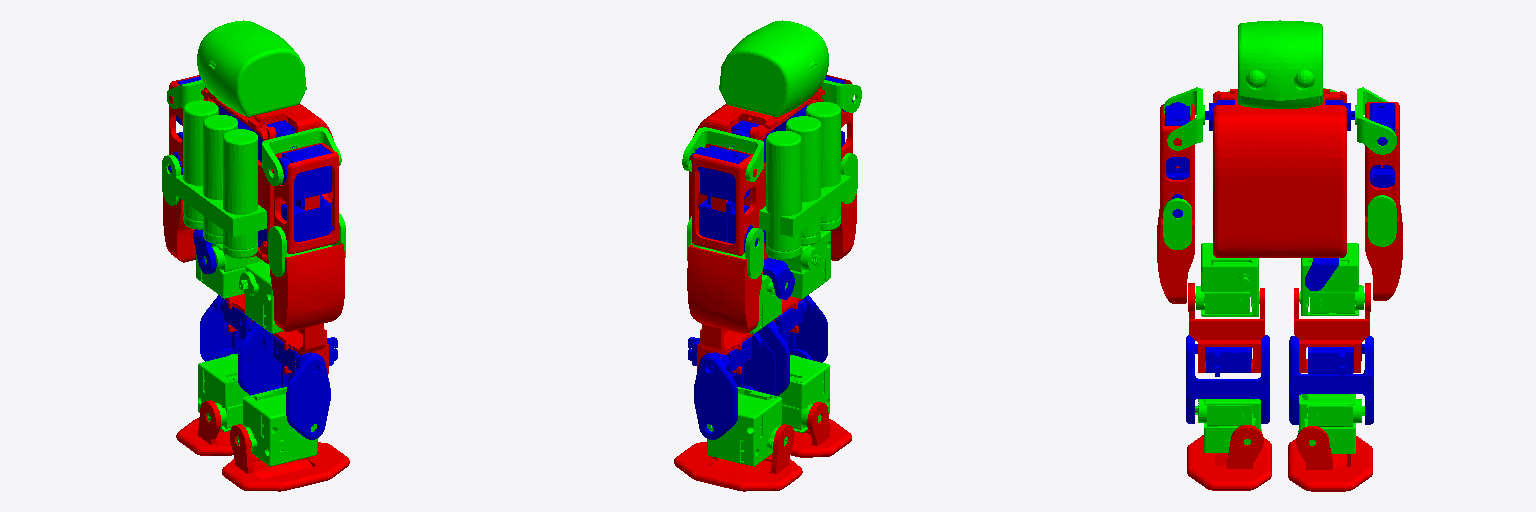
--- Render facts (derived) ---
The picture shows the robot from 3 angles, left to right: view 1: azimuth 30°, elevation 25°; view 2: azimuth 150°, elevation 25°; view 3: azimuth 270°, elevation 25°; orthographic projection.
Robot: plen — 33 links, 32 joints (18 revolute, 14 fixed); root link torso; default pose: every joint at zero.
Links seen in each view (by area): view 1: battery, head, r_hand, r_shin, r_foot, r_ankle, r_arm, torso, l_shin, l_ankle, l_foot, r_thigh (+13 smaller); view 2: battery, head, l_hand, l_shin, l_foot, l_ankle, l_arm, r_shin, r_ankle, torso, r_foot, r_thigh (+12 smaller); view 3: torso, head, r_foot, l_foot, r_thigh, l_shin, l_thigh, r_shin, l_ankle, r_knee, l_knee, r_ankle (+13 smaller).
Boxes of the visible links, x1=… form: battery: x1=175, y1=100, x2=266, y2=258; head: x1=197, y1=20, x2=306, y2=116; r_hand: x1=270, y1=243, x2=344, y2=331; r_shin: x1=249, y1=332, x2=330, y2=439; r_foot: x1=222, y1=424, x2=349, y2=491; r_ankle: x1=237, y1=387, x2=317, y2=466; r_arm: x1=274, y1=143, x2=338, y2=253; torso: x1=201, y1=86, x2=333, y2=263; l_shin: x1=200, y1=295, x2=267, y2=395; l_ankle: x1=198, y1=354, x2=249, y2=431; l_foot: x1=176, y1=400, x2=233, y2=455; r_thigh: x1=239, y1=261, x2=283, y2=333; battery: x1=759, y1=102, x2=851, y2=259; head: x1=719, y1=20, x2=828, y2=116; l_hand: x1=687, y1=245, x2=762, y2=333; l_shin: x1=694, y1=332, x2=775, y2=439; l_foot: x1=674, y1=424, x2=802, y2=491; l_ankle: x1=707, y1=387, x2=787, y2=466; l_arm: x1=692, y1=144, x2=756, y2=255; r_shin: x1=757, y1=295, x2=827, y2=395; r_ankle: x1=778, y1=355, x2=829, y2=432; torso: x1=689, y1=86, x2=824, y2=259; r_foot: x1=791, y1=402, x2=851, y2=457; r_thigh: x1=768, y1=231, x2=830, y2=298; torso: x1=1213, y1=89, x2=1346, y2=257; head: x1=1238, y1=20, x2=1322, y2=108; r_foot: x1=1187, y1=425, x2=1271, y2=490; l_foot: x1=1288, y1=426, x2=1372, y2=491; r_thigh: x1=1195, y1=243, x2=1259, y2=316; l_shin: x1=1289, y1=336, x2=1373, y2=424; l_thigh: x1=1299, y1=243, x2=1364, y2=315; r_shin: x1=1186, y1=335, x2=1269, y2=423; l_ankle: x1=1298, y1=394, x2=1364, y2=453; r_knee: x1=1188, y1=283, x2=1264, y2=372; l_knee: x1=1294, y1=283, x2=1370, y2=372; r_ankle: x1=1195, y1=399, x2=1261, y2=452.
Bounding box of the posed robot: 0.0672 × 0.1222 × 0.236 m (x, y, z).
32 mesh visuals loaded from 17 distinct referenced files (16 binary STL); not drawn: 1 (reference not matched to a file when rendering).

The robot description file, URDF, robot "plen":
<?xml version="1.0" encoding="utf-8"?>
<!-- =================================================================================== -->
<!-- |    This document was autogenerated by xacro from plen.urdf.xacro                | -->
<!-- |    EDITING THIS FILE BY HAND IS NOT RECOMMENDED                                 | -->
<!-- =================================================================================== -->
<robot name="plen">
  <!-- ros_control plugin -->
  <gazebo>
    <plugin filename="libgazebo_ros_control.so" name="gazebo_ros_control">
      <robotNamespace>/plen</robotNamespace>
      <robotSimType>gazebo_ros_control/DefaultRobotHWSim</robotSimType>
    </plugin>
  </gazebo>
  <gazebo reference="torso">
    <material>Gazebo/Gray</material>
    <mu1>100</mu1>
    <!-- static -->
    <mu2>100</mu2>
    <!-- dynamic -->
    <dampingFactor>0.001</dampingFactor>
    <kp>10000000.0</kp>
    <!-- rigidity (damping) -->
    <kd>1.0</kd>
    <!-- rigidity (damping) -->
    <minDepth>0.001</minDepth>
    <fdir1>1 0 0</fdir1>
    <!-- friction direction -->
  </gazebo>
  <gazebo reference="battery">
    <material>Gazebo/Orange</material>
    <mu1>100</mu1>
    <!-- static -->
    <mu2>100</mu2>
    <!-- dynamic -->
    <dampingFactor>0.001</dampingFactor>
    <kp>10000000.0</kp>
    <!-- rigidity (damping) -->
    <kd>1.0</kd>
    <!-- rigidity (damping) -->
    <minDepth>0.001</minDepth>
    <fdir1>1 0 0</fdir1>
    <!-- friction direction -->
  </gazebo>
  <gazebo reference="head">
    <material>Gazebo/Gray</material>
    <mu1>100</mu1>
    <!-- static -->
    <mu2>100</mu2>
    <!-- dynamic -->
    <dampingFactor>0.001</dampingFactor>
    <kp>10000000.0</kp>
    <!-- rigidity (damping) -->
    <kd>1.0</kd>
    <!-- rigidity (damping) -->
    <minDepth>0.001</minDepth>
    <fdir1>1 0 0</fdir1>
    <!-- friction direction -->
  </gazebo>
  <gazebo reference="rt_servo">
    <material>Gazebo/Orange</material>
    <mu1>100</mu1>
    <!-- static -->
    <mu2>100</mu2>
    <!-- dynamic -->
    <dampingFactor>0.001</dampingFactor>
    <kp>10000000.0</kp>
    <!-- rigidity (damping) -->
    <kd>1.0</kd>
    <!-- rigidity (damping) -->
    <minDepth>0.001</minDepth>
    <fdir1>1 0 0</fdir1>
    <!-- friction direction -->
  </gazebo>
  <gazebo reference="lt_servo">
    <material>Gazebo/Orange</material>
    <mu1>100</mu1>
    <!-- static -->
    <mu2>100</mu2>
    <!-- dynamic -->
    <dampingFactor>0.001</dampingFactor>
    <kp>10000000.0</kp>
    <!-- rigidity (damping) -->
    <kd>1.0</kd>
    <!-- rigidity (damping) -->
    <minDepth>0.001</minDepth>
    <fdir1>1 0 0</fdir1>
    <!-- friction direction -->
  </gazebo>
  <gazebo reference="rb_servo">
    <material>Gazebo/Orange</material>
    <mu1>100</mu1>
    <!-- static -->
    <mu2>100</mu2>
    <!-- dynamic -->
    <dampingFactor>0.001</dampingFactor>
    <kp>10000000.0</kp>
    <!-- rigidity (damping) -->
    <kd>1.0</kd>
    <!-- rigidity (damping) -->
    <minDepth>0.001</minDepth>
    <fdir1>1 0 0</fdir1>
    <!-- friction direction -->
  </gazebo>
  <gazebo reference="lb_servo">
    <material>Gazebo/Orange</material>
    <mu1>100</mu1>
    <!-- static -->
    <mu2>100</mu2>
    <!-- dynamic -->
    <dampingFactor>0.001</dampingFactor>
    <kp>10000000.0</kp>
    <!-- rigidity (damping) -->
    <kd>1.0</kd>
    <!-- rigidity (damping) -->
    <minDepth>0.001</minDepth>
    <fdir1>1 0 0</fdir1>
    <!-- friction direction -->
  </gazebo>
  <gazebo reference="r_shoulder">
    <material>Gazebo/Gray</material>
    <mu1>100</mu1>
    <!-- static -->
    <mu2>100</mu2>
    <!-- dynamic -->
    <dampingFactor>0.001</dampingFactor>
    <kp>10000000.0</kp>
    <!-- rigidity (damping) -->
    <kd>1.0</kd>
    <!-- rigidity (damping) -->
    <minDepth>0.001</minDepth>
    <fdir1>1 0 0</fdir1>
    <!-- friction direction -->
  </gazebo>
  <gazebo reference="rs_servo">
    <material>Gazebo/Orange</material>
    <mu1>100</mu1>
    <!-- static -->
    <mu2>100</mu2>
    <!-- dynamic -->
    <dampingFactor>0.001</dampingFactor>
    <kp>10000000.0</kp>
    <!-- rigidity (damping) -->
    <kd>1.0</kd>
    <!-- rigidity (damping) -->
    <minDepth>0.001</minDepth>
    <fdir1>1 0 0</fdir1>
    <!-- friction direction -->
  </gazebo>
  <gazebo reference="r_arm">
    <material>Gazebo/Gray</material>
    <mu1>100</mu1>
    <!-- static -->
    <mu2>100</mu2>
    <!-- dynamic -->
    <dampingFactor>0.001</dampingFactor>
    <kp>10000000.0</kp>
    <!-- rigidity (damping) -->
    <kd>1.0</kd>
    <!-- rigidity (damping) -->
    <minDepth>0.001</minDepth>
    <fdir1>1 0 0</fdir1>
    <!-- friction direction -->
  </gazebo>
  <gazebo reference="re_servo">
    <material>Gazebo/Orange</material>
    <mu1>100</mu1>
    <!-- static -->
    <mu2>100</mu2>
    <!-- dynamic -->
    <dampingFactor>0.001</dampingFactor>
    <kp>10000000.0</kp>
    <!-- rigidity (damping) -->
    <kd>1.0</kd>
    <!-- rigidity (damping) -->
    <minDepth>0.001</minDepth>
    <fdir1>1 0 0</fdir1>
    <!-- friction direction -->
  </gazebo>
  <gazebo reference="r_elbow">
    <material>Gazebo/Gray</material>
    <mu1>100</mu1>
    <!-- static -->
    <mu2>100</mu2>
    <!-- dynamic -->
    <dampingFactor>0.001</dampingFactor>
    <kp>10000000.0</kp>
    <!-- rigidity (damping) -->
    <kd>1.0</kd>
    <!-- rigidity (damping) -->
    <minDepth>0.001</minDepth>
    <fdir1>1 0 0</fdir1>
    <!-- friction direction -->
  </gazebo>
  <gazebo reference="r_hand">
    <material>Gazebo/Gray</material>
    <mu1>100</mu1>
    <!-- static -->
    <mu2>100</mu2>
    <!-- dynamic -->
    <dampingFactor>0.001</dampingFactor>
    <kp>10000000.0</kp>
    <!-- rigidity (damping) -->
    <kd>1.0</kd>
    <!-- rigidity (damping) -->
    <minDepth>0.001</minDepth>
    <fdir1>1 0 0</fdir1>
    <!-- friction direction -->
  </gazebo>
  <gazebo reference="l_shoulder">
    <material>Gazebo/Gray</material>
    <mu1>100</mu1>
    <!-- static -->
    <mu2>100</mu2>
    <!-- dynamic -->
    <dampingFactor>0.001</dampingFactor>
    <kp>10000000.0</kp>
    <!-- rigidity (damping) -->
    <kd>1.0</kd>
    <!-- rigidity (damping) -->
    <minDepth>0.001</minDepth>
    <fdir1>1 0 0</fdir1>
    <!-- friction direction -->
  </gazebo>
  <gazebo reference="ls_servo">
    <material>Gazebo/Orange</material>
    <mu1>100</mu1>
    <!-- static -->
    <mu2>100</mu2>
    <!-- dynamic -->
    <dampingFactor>0.001</dampingFactor>
    <kp>10000000.0</kp>
    <!-- rigidity (damping) -->
    <kd>1.0</kd>
    <!-- rigidity (damping) -->
    <minDepth>0.001</minDepth>
    <fdir1>1 0 0</fdir1>
    <!-- friction direction -->
  </gazebo>
  <gazebo reference="l_arm">
    <material>Gazebo/Gray</material>
    <mu1>100</mu1>
    <!-- static -->
    <mu2>100</mu2>
    <!-- dynamic -->
    <dampingFactor>0.001</dampingFactor>
    <kp>10000000.0</kp>
    <!-- rigidity (damping) -->
    <kd>1.0</kd>
    <!-- rigidity (damping) -->
    <minDepth>0.001</minDepth>
    <fdir1>1 0 0</fdir1>
    <!-- friction direction -->
  </gazebo>
  <gazebo reference="le_servo">
    <material>Gazebo/Orange</material>
    <mu1>100</mu1>
    <!-- static -->
    <mu2>100</mu2>
    <!-- dynamic -->
    <dampingFactor>0.001</dampingFactor>
    <kp>10000000.0</kp>
    <!-- rigidity (damping) -->
    <kd>1.0</kd>
    <!-- rigidity (damping) -->
    <minDepth>0.001</minDepth>
    <fdir1>1 0 0</fdir1>
    <!-- friction direction -->
  </gazebo>
  <gazebo reference="l_elbow">
    <material>Gazebo/Gray</material>
    <mu1>100</mu1>
    <!-- static -->
    <mu2>100</mu2>
    <!-- dynamic -->
    <dampingFactor>0.001</dampingFactor>
    <kp>10000000.0</kp>
    <!-- rigidity (damping) -->
    <kd>1.0</kd>
    <!-- rigidity (damping) -->
    <minDepth>0.001</minDepth>
    <fdir1>1 0 0</fdir1>
    <!-- friction direction -->
  </gazebo>
  <gazebo reference="l_hand">
    <material>Gazebo/Gray</material>
    <mu1>100</mu1>
    <!-- static -->
    <mu2>100</mu2>
    <!-- dynamic -->
    <dampingFactor>0.001</dampingFactor>
    <kp>10000000.0</kp>
    <!-- rigidity (damping) -->
    <kd>1.0</kd>
    <!-- rigidity (damping) -->
    <minDepth>0.001</minDepth>
    <fdir1>1 0 0</fdir1>
    <!-- friction direction -->
  </gazebo>
  <gazebo reference="r_hip">
    <material>Gazebo/Gray</material>
    <mu1>100</mu1>
    <!-- static -->
    <mu2>100</mu2>
    <!-- dynamic -->
    <dampingFactor>0.001</dampingFactor>
    <kp>10000000.0</kp>
    <!-- rigidity (damping) -->
    <kd>1.0</kd>
    <!-- rigidity (damping) -->
    <minDepth>0.001</minDepth>
    <fdir1>1 0 0</fdir1>
    <!-- friction direction -->
  </gazebo>
  <gazebo reference="r_thigh">
    <material>Gazebo/Orange</material>
    <mu1>100</mu1>
    <!-- static -->
    <mu2>100</mu2>
    <!-- dynamic -->
    <dampingFactor>0.001</dampingFactor>
    <kp>10000000.0</kp>
    <!-- rigidity (damping) -->
    <kd>1.0</kd>
    <!-- rigidity (damping) -->
    <minDepth>0.001</minDepth>
    <fdir1>1 0 0</fdir1>
    <!-- friction direction -->
  </gazebo>
  <gazebo reference="r_knee">
    <material>Gazebo/Gray</material>
    <mu1>100</mu1>
    <!-- static -->
    <mu2>100</mu2>
    <!-- dynamic -->
    <dampingFactor>0.001</dampingFactor>
    <kp>10000000.0</kp>
    <!-- rigidity (damping) -->
    <kd>1.0</kd>
    <!-- rigidity (damping) -->
    <minDepth>0.001</minDepth>
    <fdir1>1 0 0</fdir1>
    <!-- friction direction -->
  </gazebo>
  <gazebo reference="r_knee_servo">
    <material>Gazebo/Orange</material>
    <mu1>100</mu1>
    <!-- static -->
    <mu2>100</mu2>
    <!-- dynamic -->
    <dampingFactor>0.001</dampingFactor>
    <kp>10000000.0</kp>
    <!-- rigidity (damping) -->
    <kd>1.0</kd>
    <!-- rigidity (damping) -->
    <minDepth>0.001</minDepth>
    <fdir1>1 0 0</fdir1>
    <!-- friction direction -->
  </gazebo>
  <gazebo reference="r_shin">
    <material>Gazebo/Gray</material>
    <mu1>100</mu1>
    <!-- static -->
    <mu2>100</mu2>
    <!-- dynamic -->
    <dampingFactor>0.001</dampingFactor>
    <kp>10000000.0</kp>
    <!-- rigidity (damping) -->
    <kd>1.0</kd>
    <!-- rigidity (damping) -->
    <minDepth>0.001</minDepth>
    <fdir1>1 0 0</fdir1>
    <!-- friction direction -->
  </gazebo>
  <gazebo reference="r_ankle">
    <material>Gazebo/Orange</material>
    <mu1>100</mu1>
    <!-- static -->
    <mu2>100</mu2>
    <!-- dynamic -->
    <dampingFactor>0.001</dampingFactor>
    <kp>10000000.0</kp>
    <!-- rigidity (damping) -->
    <kd>1.0</kd>
    <!-- rigidity (damping) -->
    <minDepth>0.001</minDepth>
    <fdir1>1 0 0</fdir1>
    <!-- friction direction -->
  </gazebo>
  <gazebo reference="r_foot">
    <material>Gazebo/Gray</material>
    <mu1>100</mu1>
    <!-- static -->
    <mu2>100</mu2>
    <!-- dynamic -->
    <dampingFactor>0.001</dampingFactor>
    <kp>10000000.0</kp>
    <!-- rigidity (damping) -->
    <kd>1.0</kd>
    <!-- rigidity (damping) -->
    <minDepth>0.001</minDepth>
    <fdir1>1 0 0</fdir1>
    <!-- friction direction -->
  </gazebo>
  <gazebo reference="l_hip">
    <material>Gazebo/Gray</material>
    <mu1>100</mu1>
    <!-- static -->
    <mu2>100</mu2>
    <!-- dynamic -->
    <dampingFactor>0.001</dampingFactor>
    <kp>10000000.0</kp>
    <!-- rigidity (damping) -->
    <kd>1.0</kd>
    <!-- rigidity (damping) -->
    <minDepth>0.001</minDepth>
    <fdir1>1 0 0</fdir1>
    <!-- friction direction -->
  </gazebo>
  <gazebo reference="l_thigh">
    <material>Gazebo/Orange</material>
    <mu1>100</mu1>
    <!-- static -->
    <mu2>100</mu2>
    <!-- dynamic -->
    <dampingFactor>0.001</dampingFactor>
    <kp>10000000.0</kp>
    <!-- rigidity (damping) -->
    <kd>1.0</kd>
    <!-- rigidity (damping) -->
    <minDepth>0.001</minDepth>
    <fdir1>1 0 0</fdir1>
    <!-- friction direction -->
  </gazebo>
  <gazebo reference="l_knee">
    <material>Gazebo/Gray</material>
    <mu1>100</mu1>
    <!-- static -->
    <mu2>100</mu2>
    <!-- dynamic -->
    <dampingFactor>0.001</dampingFactor>
    <kp>10000000.0</kp>
    <!-- rigidity (damping) -->
    <kd>1.0</kd>
    <!-- rigidity (damping) -->
    <minDepth>0.001</minDepth>
    <fdir1>1 0 0</fdir1>
    <!-- friction direction -->
  </gazebo>
  <gazebo reference="l_knee_servo">
    <material>Gazebo/Orange</material>
    <mu1>100</mu1>
    <!-- static -->
    <mu2>100</mu2>
    <!-- dynamic -->
    <dampingFactor>0.001</dampingFactor>
    <kp>10000000.0</kp>
    <!-- rigidity (damping) -->
    <kd>1.0</kd>
    <!-- rigidity (damping) -->
    <minDepth>0.001</minDepth>
    <fdir1>1 0 0</fdir1>
    <!-- friction direction -->
  </gazebo>
  <gazebo reference="l_shin">
    <material>Gazebo/Gray</material>
    <mu1>100</mu1>
    <!-- static -->
    <mu2>100</mu2>
    <!-- dynamic -->
    <dampingFactor>0.001</dampingFactor>
    <kp>10000000.0</kp>
    <!-- rigidity (damping) -->
    <kd>1.0</kd>
    <!-- rigidity (damping) -->
    <minDepth>0.001</minDepth>
    <fdir1>1 0 0</fdir1>
    <!-- friction direction -->
  </gazebo>
  <gazebo reference="l_ankle">
    <material>Gazebo/Orange</material>
    <mu1>100</mu1>
    <!-- static -->
    <mu2>100</mu2>
    <!-- dynamic -->
    <dampingFactor>0.001</dampingFactor>
    <kp>10000000.0</kp>
    <!-- rigidity (damping) -->
    <kd>1.0</kd>
    <!-- rigidity (damping) -->
    <minDepth>0.001</minDepth>
    <fdir1>1 0 0</fdir1>
    <!-- friction direction -->
  </gazebo>
  <gazebo reference="l_foot">
    <material>Gazebo/Gray</material>
    <mu1>100</mu1>
    <!-- static -->
    <mu2>100</mu2>
    <!-- dynamic -->
    <dampingFactor>0.001</dampingFactor>
    <kp>10000000.0</kp>
    <!-- rigidity (damping) -->
    <kd>1.0</kd>
    <!-- rigidity (damping) -->
    <minDepth>0.001</minDepth>
    <fdir1>1 0 0</fdir1>
    <!-- friction direction -->
  </gazebo>
  <!-- Robot description -->
  <!-- Links -->
  <link name="torso">
    <visual>
      <origin rpy="0 0 0" xyz="0 0 0"/>
      <geometry>
        <mesh filename="package://plen_ros/meshes_bin/torso.stl" scale="0.001 0.001 0.001"/>
      </geometry>
      <material name="red_mat">
        <color rgba="1 0 0 1"/>
      </material>
    </visual>
    <collision>
      <origin rpy="0 0 0" xyz="0.0 0 0.0"/>
      <geometry>
        <box size="0.045 0.048 0.075"/>
      </geometry>
    </collision>
    <inertial>
      <mass value="0.043968"/>
      <origin rpy="0 0 0" xyz="0.0 0 0.0"/>
      <!-- Inertial Axes -->
      <inertia ixx="2.80296e-05" ixy="0" ixz="0" iyx="0" iyy="2.80296e-05" iyz="0" izx="0" izy="0" izz="1.5861456e-05"/>
    </inertial>
  </link>
  <!-- m to mm -->
  <link name="battery">
    <visual>
      <origin rpy="0 0 0" xyz="0 0 0"/>
      <geometry>
        <mesh filename="package://plen_ros/meshes_bin/battery.stl" scale="0.001 0.001 0.001"/>
      </geometry>
      <material name="green_mat">
        <color rgba="0 1 0 1"/>
      </material>
    </visual>
    <collision>
      <origin rpy="0 0 0" xyz="0.0075 0 0.0115"/>
      <geometry>
        <box size="0.011 0.051 0.046"/>
      </geometry>
    </collision>
    <inertial>
      <mass value="0.064"/>
      <origin rpy="0 0 0" xyz="0.0075 0 0.0115"/>
      <!-- Inertial Axes -->
      <inertia ixx="1.19306666667e-05" ixy="0" ixz="0" iyx="0" iyy="1.19306666667e-05" iyz="0" izx="0" izy="0" izz="1.45173333333e-05"/>
    </inertial>
  </link>
  <link name="head">
    <visual>
      <origin rpy="0 0 0" xyz="0 0 0"/>
      <geometry>
        <mesh filename="package://plen_ros/meshes_bin/head.stl" scale="0.001 0.001 0.001"/>
      </geometry>
      <material name="green_mat">
        <color rgba="0 1 0 1"/>
      </material>
    </visual>
    <collision>
      <origin rpy="0 0 0" xyz="0 0 0.0"/>
      <geometry>
        <box size="0.04 0.04 0.04"/>
      </geometry>
    </collision>
    <inertial>
      <mass value="0.01"/>
      <origin rpy="0 0 0" xyz="0.0 0 0.0"/>
      <!-- Inertial Axes -->
      <inertia ixx="2.66666666667e-06" ixy="0" ixz="0" iyx="0" iyy="2.66666666667e-06" iyz="0" izx="0" izy="0" izz="2.66666666667e-06"/>
    </inertial>
  </link>
  <link name="rt_servo">
    <visual>
      <origin rpy="0 0 3.14159265359" xyz="0 0 0"/>
      <geometry>
        <mesh filename="package://plen_ros/meshes_bin/servo.stl" scale="0.001 0.001 0.001"/>
      </geometry>
      <material name="blue_mat">
        <color rgba="0 0 1 1"/>
      </material>
    </visual>
    <collision>
      <origin rpy="0 0 3.14159265359" xyz="0 0.00625 0.0"/>
      <geometry>
        <box size="0.012 0.025 0.025"/>
      </geometry>
    </collision>
    <inertial>
      <mass value="0.012"/>
      <origin rpy="0 0 0" xyz="0 0.00625 0.0"/>
      <!-- Inertial Axes -->
      <inertia ixx="7.69e-07" ixy="0" ixz="0" iyx="0" iyy="7.69e-07" iyz="0" izx="0" izy="0" izz="7.69e-07"/>
    </inertial>
  </link>
  <link name="lt_servo">
    <visual>
      <origin rpy="0 0 3.14159265359" xyz="0 0 0"/>
      <geometry>
        <mesh filename="package://plen_ros/meshes_bin/servo.stl" scale="0.001 0.001 0.001"/>
      </geometry>
      <material name="blue_mat">
        <color rgba="0 0 1 1"/>
      </material>
    </visual>
    <collision>
      <origin rpy="0 0 3.14159265359" xyz="0 0.00625 0.0"/>
      <geometry>
        <box size="0.012 0.025 0.025"/>
      </geometry>
    </collision>
    <inertial>
      <mass value="0.012"/>
      <origin rpy="0 0 0" xyz="0 0.00625 0.0"/>
      <!-- Inertial Axes -->
      <inertia ixx="7.69e-07" ixy="0" ixz="0" iyx="0" iyy="7.69e-07" iyz="0" izx="0" izy="0" izz="7.69e-07"/>
    </inertial>
  </link>
  <link name="rb_servo">
    <visual>
      <origin rpy="0 0 3.14159265359" xyz="0 0 0"/>
      <geometry>
        <mesh filename="package://plen_ros/meshes_bin/servo.stl" scale="0.001 0.001 0.001"/>
      </geometry>
      <material name="blue_mat">
        <color rgba="0 0 1 1"/>
      </material>
    </visual>
    <collision>
      <origin rpy="0 0 3.14159265359" xyz="0 0.00625 0.0"/>
      <geometry>
        <box size="0.012 0.025 0.025"/>
      </geometry>
    </collision>
    <inertial>
      <mass value="0.012"/>
      <origin rpy="0 0 0" xyz="0 0.00625 0.0"/>
      <!-- Inertial Axes -->
      <inertia ixx="7.69e-07" ixy="0" ixz="0" iyx="0" iyy="7.69e-07" iyz="0" izx="0" izy="0" izz="7.69e-07"/>
    </inertial>
  </link>
  <link name="lb_servo">
    <visual>
      <origin rpy="0 0 3.14159265359" xyz="0 0 0"/>
      <geometry>
        <mesh filename="package://plen_ros/meshes_bin/servo.stl" scale="0.001 0.001 0.001"/>
      </geometry>
      <material name="blue_mat">
        <color rgba="0 0 1 1"/>
      </material>
    </visual>
    <collision>
      <origin rpy="0 0 3.14159265359" xyz="0 0.00625 0.0"/>
      <geometry>
        <box size="0.012 0.025 0.025"/>
      </geometry>
    </collision>
    <inertial>
      <mass value="0.012"/>
      <origin rpy="0 0 0" xyz="0 0.00625 0.0"/>
      <!-- Inertial Axes -->
      <inertia ixx="7.69e-07" ixy="0" ixz="0" iyx="0" iyy="7.69e-07" iyz="0" izx="0" izy="0" izz="7.69e-07"/>
    </inertial>
  </link>
  <link name="r_shoulder">
    <visual>
      <origin rpy="0 0 0" xyz="0 0 0"/>
      <geometry>
        <mesh filename="package://plen_ros/meshes_bin/shoulder.stl" scale="0.001 0.001 0.001"/>
      </geometry>
      <material name="green_mat">
        <color rgba="0 1 0 1"/>
      </material>
    </visual>
    <collision>
      <origin rpy="0 0 0" xyz="0 0 0.0125"/>
      <geometry>
        <box size="0.018 0.035 0.025"/>
      </geometry>
    </collision>
    <inertial>
      <mass value="0.002954"/>
      <origin rpy="0 0 0" xyz="0 0 0.0125"/>
      <!-- Inertial Axes -->
      <inertia ixx="2.33612166667e-07" ixy="0" ixz="0" iyx="0" iyy="2.33612166667e-07" iyz="0" izx="0" izy="0" izz="3.81312166667e-07"/>
    </inertial>
  </link>
  <link name="rs_servo">
    <visual>
      <origin rpy="0 0 3.14159265359" xyz="0 0 0"/>
      <geometry>
        <mesh filename="package://plen_ros/meshes_bin/servo.stl" scale="0.001 0.001 0.001"/>
      </geometry>
      <material name="blue_mat">
        <color rgba="0 0 1 1"/>
      </material>
    </visual>
    <collision>
      <origin rpy="0 0 3.14159265359" xyz="0 0.00625 0.0"/>
      <geometry>
        <box size="0.012 0.025 0.025"/>
      </geometry>
    </collision>
    <inertial>
      <mass value="0.012"/>
      <origin rpy="0 0 0" xyz="0 0.00625 0.0"/>
      <!-- Inertial Axes -->
      <inertia ixx="7.69e-07" ixy="0" ixz="0" iyx="0" iyy="7.69e-07" iyz="0" izx="0" izy="0" izz="7.69e-07"/>
    </inertial>
  </link>
  <link name="r_arm">
    <visual>
      <origin rpy="0 0 0" xyz="0 0 0"/>
      <geometry>
        <mesh filename="package://plen_ros/meshes_bin/arm.stl" scale="0.001 0.001 0.001"/>
      </geometry>
      <material name="red_mat">
        <color rgba="1 0 0 1"/>
      </material>
    </visual>
    <collision>
      <origin rpy="0 0 0" xyz="0 0 0.0"/>
      <geometry>
        <box size="0.015 0.035 0.05"/>
      </geometry>
    </collision>
    <inertial>
      <mass value="0.005091"/>
      <origin rpy="0 0 0" xyz="0 0 0.0"/>
      <!-- Inertial Axes -->
      <inertia ixx="1.15608125e-06" ixy="0" ixz="0" iyx="0" iyy="1.15608125e-06" iyz="0" izx="0" izy="0" izz="6.151625e-07"/>
    </inertial>
  </link>
  <link name="re_servo">
    <visual>
      <origin rpy="0 0 3.14159265359" xyz="0 0 0"/>
      <geometry>
        <mesh filename="package://plen_ros/meshes_bin/servo.stl" scale="0.001 0.001 0.001"/>
      </geometry>
      <material name="blue_mat">
        <color rgba="0 0 1 1"/>
      </material>
    </visual>
    <collision>
      <origin rpy="0 0 3.14159265359" xyz="0 0.00625 0.0"/>
      <geometry>
        <box size="0.012 0.025 0.025"/>
      </geometry>
    </collision>
    <inertial>
      <mass value="0.012"/>
      <origin rpy="0 0 0" xyz="0 0.00625 0.0"/>
      <!-- Inertial Axes -->
      <inertia ixx="7.69e-07" ixy="0" ixz="0" iyx="0" iyy="7.69e-07" iyz="0" izx="0" izy="0" izz="7.69e-07"/>
    </inertial>
  </link>
  <link name="r_elbow">
    <visual>
      <origin rpy="0 0 0" xyz="-0.0135 0 0"/>
      <geometry>
        <mesh filename="package://plen_ros/meshes_bin/elbow.stl" scale="0.001 0.001 0.001"/>
      </geometry>
      <material name="green_mat">
        <color rgba="0 1 0 1"/>
      </material>
    </visual>
    <collision>
      <origin rpy="0 0 0" xyz="-0.00675 0 0.0"/>
      <geometry>
        <box size="0.027 0.034 0.014"/>
      </geometry>
    </collision>
    <inertial>
      <mass value="0.003046"/>
      <origin rpy="0 0 0" xyz="-0.00675 0 0.0"/>
      <!-- Inertial Axes -->
      <inertia ixx="2.34795833333e-07" ixy="0" ixz="0" iyx="0" iyy="2.34795833333e-07" iyz="0" izx="0" izy="0" izz="4.78475833333e-07"/>
    </inertial>
  </link>
  <link name="r_hand">
    <visual>
      <origin rpy="0 0 0" xyz="0.0 0 0"/>
      <geometry>
        <mesh filename="package://plen_ros/meshes_bin/hand.stl" scale="0.001 0.001 0.001"/>
      </geometry>
      <material name="red_mat">
        <color rgba="1 0 0 1"/>
      </material>
    </visual>
    <collision>
      <origin rpy="0 0 0" xyz="0 0 0.0"/>
      <geometry>
        <box size="0.019 0.034 0.035"/>
      </geometry>
    </collision>
    <inertial>
      <mass value="0.008305"/>
      <origin rpy="0 0 0" xyz="0 0 0.0"/>
      <!-- Inertial Axes -->
      <inertia ixx="1.09764416667e-06" ixy="0" ixz="0" iyx="0" iyy="1.09764416667e-06" iyz="0" izx="0" izy="0" izz="1.04989041667e-06"/>
    </inertial>
  </link>
  <link name="l_shoulder">
    <visual>
      <origin rpy="0 0 0" xyz="0 0 0"/>
      <geometry>
        <mesh filename="package://plen_ros/meshes_bin/shoulder.stl" scale="0.001 0.001 0.001"/>
      </geometry>
      <material name="green_mat">
        <color rgba="0 1 0 1"/>
      </material>
    </visual>
    <collision>
      <origin rpy="0 0 0" xyz="0 0 0.0125"/>
      <geometry>
        <box size="0.018 0.035 0.025"/>
      </geometry>
    </collision>
    <inertial>
      <mass value="0.002954"/>
      <origin rpy="0 0 0" xyz="0 0 0.0125"/>
      <!-- Inertial Axes -->
      <inertia ixx="2.33612166667e-07" ixy="0" ixz="0" iyx="0" iyy="2.33612166667e-07" iyz="0" izx="0" izy="0" izz="3.81312166667e-07"/>
    </inertial>
  </link>
  <link name="ls_servo">
    <visual>
      <origin rpy="0 0 3.14159265359" xyz="0 0 0"/>
      <geometry>
        <mesh filename="package://plen_ros/meshes_bin/servo.stl" scale="0.001 0.001 0.001"/>
      </geometry>
      <material name="blue_mat">
        <color rgba="0 0 1 1"/>
      </material>
    </visual>
    <collision>
      <origin rpy="0 0 3.14159265359" xyz="0 0.00625 0.0"/>
      <geometry>
        <box size="0.012 0.025 0.025"/>
      </geometry>
    </collision>
    <inertial>
      <mass value="0.012"/>
      <origin rpy="0 0 0" xyz="0 0.00625 0.0"/>
      <!-- Inertial Axes -->
      <inertia ixx="7.69e-07" ixy="0" ixz="0" iyx="0" iyy="7.69e-07" iyz="0" izx="0" izy="0" izz="7.69e-07"/>
    </inertial>
  </link>
  <link name="l_arm">
    <visual>
      <origin rpy="0 0 0" xyz="0 0 0"/>
      <geometry>
        <mesh filename="package://plen_ros/meshes_bin/arm.stl" scale="0.001 0.001 0.001"/>
      </geometry>
      <material name="red_mat">
        <color rgba="1 0 0 1"/>
      </material>
    </visual>
    <collision>
      <origin rpy="0 0 0" xyz="0 0 0.0"/>
      <geometry>
        <box size="0.015 0.035 0.05"/>
      </geometry>
    </collision>
    <inertial>
      <mass value="0.005091"/>
      <origin rpy="0 0 0" xyz="0 0 0.0"/>
      <!-- Inertial Axes -->
      <inertia ixx="1.15608125e-06" ixy="0" ixz="0" iyx="0" iyy="1.15608125e-06" iyz="0" izx="0" izy="0" izz="6.151625e-07"/>
    </inertial>
  </link>
  <link name="le_servo">
    <visual>
      <origin rpy="0 0 3.14159265359" xyz="0 0 0"/>
      <geometry>
        <mesh filename="package://plen_ros/meshes_bin/servo.stl" scale="0.001 0.001 0.001"/>
      </geometry>
      <material name="blue_mat">
        <color rgba="0 0 1 1"/>
      </material>
    </visual>
    <collision>
      <origin rpy="0 0 3.14159265359" xyz="0 0.00625 0.0"/>
      <geometry>
        <box size="0.012 0.025 0.025"/>
      </geometry>
    </collision>
    <inertial>
      <mass value="0.012"/>
      <origin rpy="0 0 0" xyz="0 0.00625 0.0"/>
      <!-- Inertial Axes -->
      <inertia ixx="7.69e-07" ixy="0" ixz="0" iyx="0" iyy="7.69e-07" iyz="0" izx="0" izy="0" izz="7.69e-07"/>
    </inertial>
  </link>
  <link name="l_elbow">
    <visual>
      <origin rpy="0 0 0" xyz="-0.0135 0 0"/>
      <geometry>
        <mesh filename="package://plen_ros/meshes_bin/elbow.stl" scale="0.001 0.001 0.001"/>
      </geometry>
      <material name="green_mat">
        <color rgba="0 1 0 1"/>
      </material>
    </visual>
    <collision>
      <origin rpy="0 0 0" xyz="-0.00675 0 0.0"/>
      <geometry>
        <box size="0.027 0.034 0.014"/>
      </geometry>
    </collision>
    <inertial>
      <mass value="0.003046"/>
      <origin rpy="0 0 0" xyz="-0.00675 0 0.0"/>
      <!-- Inertial Axes -->
      <inertia ixx="2.34795833333e-07" ixy="0" ixz="0" iyx="0" iyy="2.34795833333e-07" iyz="0" izx="0" izy="0" izz="4.78475833333e-07"/>
    </inertial>
  </link>
  <link name="l_hand">
    <visual>
      <origin rpy="0 0 0" xyz="0.0 0 0"/>
      <geometry>
        <mesh filename="package://plen_ros/meshes_bin/hand.stl" scale="0.001 0.001 0.001"/>
      </geometry>
      <material name="red_mat">
        <color rgba="1 0 0 1"/>
      </material>
    </visual>
    <collision>
      <origin rpy="0 0 0" xyz="0 0 0.0"/>
      <geometry>
        <box size="0.019 0.034 0.035"/>
      </geometry>
    </collision>
    <inertial>
      <mass value="0.008305"/>
      <origin rpy="0 0 0" xyz="0 0 0.0"/>
      <!-- Inertial Axes -->
      <inertia ixx="1.09764416667e-06" ixy="0" ixz="0" iyx="0" iyy="1.09764416667e-06" iyz="0" izx="0" izy="0" izz="1.04989041667e-06"/>
    </inertial>
  </link>
  <link name="r_hip">
    <visual>
      <origin rpy="3.14159265359 0 3.14159265359" xyz="0.0 0.0 0.0"/>
      <geometry>
        <mesh filename="package://plen_ros/meshes_bin/rhip.stl" scale="0.001 0.001 0.001"/>
      </geometry>
      <material name="blue_mat">
        <color rgba="0 0 1 1"/>
      </material>
    </visual>
    <collision>
      <origin rpy="3.14159265359 0 3.14159265359" xyz="0 0 -0.009"/>
      <geometry>
        <box size="0.025 0.035 0.018"/>
      </geometry>
    </collision>
    <inertial>
      <mass value="0.002568"/>
      <origin rpy="0 0 0" xyz="0 0 -0.009"/>
      <!-- Inertial Axes -->
      <inertia ixx="2.03086e-07" ixy="0" ixz="0" iyx="0" iyy="2.03086e-07" iyz="0" izx="0" izy="0" izz="3.959e-07"/>
    </inertial>
  </link>
  <link name="r_thigh">
    <visual>
      <origin rpy="0 0 0" xyz="-0.0075 0 -0.0075"/>
      <geometry>
        <mesh filename="package://plen_ros/meshes_bin/rthigh.stl" scale="0.001 0.001 0.001"/>
      </geometry>
      <material name="green_mat">
        <color rgba="0 1 0 1"/>
      </material>
    </visual>
    <collision>
      <origin rpy="0 0 0" xyz="-0.007 0 0.007"/>
      <geometry>
        <box size="0.028 0.028 0.028"/>
      </geometry>
    </collision>
    <inertial>
      <mass value="0.04"/>
      <origin rpy="0 0 0" xyz="-0.007 0 0.007"/>
      <!-- Inertial Axes -->
      <inertia ixx="5.22666666667e-06" ixy="0" ixz="0" iyx="0" iyy="5.22666666667e-06" iyz="0" izx="0" izy="0" izz="5.22666666667e-06"/>
    </inertial>
  </link>
  <!-- og mass: 21.617-->
  <link name="r_knee">
    <visual>
      <origin rpy="0 0 0" xyz="0.0 0.0 0.0"/>
      <geometry>
        <mesh filename="package://plen_ros/meshes_bin/rknee.stl" scale="0.001 0.001 0.001"/>
      </geometry>
      <material name="red_mat">
        <color rgba="1 0 0 1"/>
      </material>
    </visual>
    <collision>
      <origin rpy="0 0 0" xyz="0.0175 -0.015 0.0"/>
      <geometry>
        <box size="0.038 0.03 0.024"/>
      </geometry>
    </collision>
    <inertial>
      <mass value="0.005004"/>
      <origin rpy="0 0 0" xyz="0.0175 -0.015 0.0"/>
      <!-- Inertial Axes -->
      <inertia ixx="8.4234e-07" ixy="0" ixz="0" iyx="0" iyy="8.4234e-07" iyz="0" izx="0" izy="0" izz="9.77448e-07"/>
    </inertial>
  </link>
  <link name="r_knee_servo">
    <visual>
      <origin rpy="0 0 3.14159265359" xyz="0 0 0"/>
      <geometry>
        <mesh filename="package://plen_ros/meshes_bin/servo.stl" scale="0.001 0.001 0.001"/>
      </geometry>
      <material name="blue_mat">
        <color rgba="0 0 1 1"/>
      </material>
    </visual>
    <collision>
      <origin rpy="0 0 3.14159265359" xyz="0 0.00625 0.0"/>
      <geometry>
        <box size="0.012 0.025 0.025"/>
      </geometry>
    </collision>
    <inertial>
      <mass value="0.012"/>
      <origin rpy="0 0 0" xyz="0 0.00625 0.0"/>
      <!-- Inertial Axes -->
      <inertia ixx="7.69e-07" ixy="0" ixz="0" iyx="0" iyy="7.69e-07" iyz="0" izx="0" izy="0" izz="7.69e-07"/>
    </inertial>
  </link>
  <link name="r_shin">
    <visual>
      <origin rpy="0 0 0" xyz="0.0168 0 -0.0091"/>
      <geometry>
        <mesh filename="package://plen_ros/meshes_bin/rshin.stl" scale="0.001 0.001 0.001"/>
      </geometry>
      <material name="blue_mat">
        <color rgba="0 0 1 1"/>
      </material>
    </visual>
    <collision>
      <origin rpy="0 0 0" xyz="0.018 0 0.004"/>
      <geometry>
        <box size="0.045 0.04 0.023"/>
      </geometry>
    </collision>
    <inertial>
      <mass value="0.006965"/>
      <origin rpy="0 0 0" xyz="0.018 0 0.004"/>
      <!-- Inertial Axes -->
      <inertia ixx="1.48238416667e-06" ixy="0" ixz="0" iyx="0" iyy="1.48238416667e-06" iyz="0" izx="0" izy="0" izz="2.10401041667e-06"/>
    </inertial>
  </link>
  <link name="r_ankle">
    <visual>
      <origin rpy="0 0 0" xyz="0.0 0.0 0.0"/>
      <geometry>
        <mesh filename="package://plen_ros/meshes_bin/rankle.stl" scale="0.001 0.001 0.001"/>
      </geometry>
      <material name="green_mat">
        <color rgba="0 1 0 1"/>
      </material>
    </visual>
    <collision>
      <origin rpy="0 0 0" xyz="0.007 -0.007 -0.014"/>
      <geometry>
        <box size="0.028 0.028 0.028"/>
      </geometry>
    </collision>
    <inertial>
      <mass value="0.04"/>
      <origin rpy="0 0 0" xyz="0.007 -0.007 -0.014"/>
      <!-- Inertial Axes -->
      <inertia ixx="5.22666666667e-06" ixy="0" ixz="0" iyx="0" iyy="5.22666666667e-06" iyz="0" izx="0" izy="0" izz="5.22666666667e-06"/>
    </inertial>
  </link>
  <link name="r_foot">
    <visual>
      <origin rpy="0 0 0" xyz="-0.0085 0 -0.0198"/>
      <geometry>
        <mesh filename="package://plen_ros/meshes_bin/rfoot.stl" scale="0.001 0.001 0.001"/>
      </geometry>
      <material name="red_mat">
        <color rgba="1 0 0 1"/>
      </material>
    </visual>
    <collision>
      <origin rpy="0 0 0" xyz="-0.00925 0 -0.017"/>
      <geometry>
        <box size="0.041 0.062867 0.004"/>
      </geometry>
    </collision>
    <inertial>
      <mass value="0.015"/>
      <origin rpy="0 0 0" xyz="-0.00925 0 -0.009"/>
      <!-- Inertial Axes -->
      <inertia ixx="2.12125e-06" ixy="0" ixz="0" iyx="0" iyy="2.12125e-06" iyz="0" izx="0" izy="0" izz="7.04157461125e-06"/>
    </inertial>
  </link>
  <link name="l_hip">
    <visual>
      <origin rpy="0 0 3.14159265359" xyz="0.0 0.0 0.001"/>
      <geometry>
        <mesh filename="package://plen_ros/meshes_bin/lhip.stl" scale="0.001 0.001 0.001"/>
      </geometry>
      <material name="blue_mat">
        <color rgba="0 0 1 1"/>
      </material>
    </visual>
    <collision>
      <origin rpy="0 0 3.14159265359" xyz="0 0 -0.009"/>
      <geometry>
        <box size="0.025 0.035 0.018"/>
      </geometry>
    </collision>
    <inertial>
      <mass value="0.002568"/>
      <origin rpy="0 0 0" xyz="0 0 -0.009"/>
      <!-- Inertial Axes -->
      <inertia ixx="2.03086e-07" ixy="0" ixz="0" iyx="0" iyy="2.03086e-07" iyz="0" izx="0" izy="0" izz="3.959e-07"/>
    </inertial>
  </link>
  <link name="l_thigh">
    <visual>
      <origin rpy="0 1.57079632679 0" xyz="0.0 0 0.0"/>
      <geometry>
        <mesh filename="package://plen_ros/meshes_bin/rankle.stl" scale="0.001 0.001 0.001"/>
      </geometry>
      <material name="green_mat">
        <color rgba="0 1 0 1"/>
      </material>
    </visual>
    <collision>
      <origin rpy="0 1.57079632679 0" xyz="-0.014 -0.007 -0.007"/>
      <geometry>
        <box size="0.028 0.028 0.028"/>
      </geometry>
    </collision>
    <inertial>
      <mass value="0.04"/>
      <origin rpy="0 0 0" xyz="-0.014 -0.007 -0.007"/>
      <!-- Inertial Axes -->
      <inertia ixx="5.22666666667e-06" ixy="0" ixz="0" iyx="0" iyy="5.22666666667e-06" iyz="0" izx="0" izy="0" izz="5.22666666667e-06"/>
    </inertial>
  </link>
  <link name="l_knee">
    <visual>
      <origin rpy="0 0 0" xyz="0.0 0.0 0.0"/>
      <geometry>
        <mesh filename="package://plen_ros/meshes_bin/lknee.stl" scale="0.001 0.001 0.001"/>
      </geometry>
      <material name="red_mat">
        <color rgba="1 0 0 1"/>
      </material>
    </visual>
    <collision>
      <origin rpy="0 0 0" xyz="0.0175 -0.001 0.0"/>
      <geometry>
        <box size="0.038 0.03 0.024"/>
      </geometry>
    </collision>
    <inertial>
      <mass value="0.005004"/>
      <origin rpy="0 0 0" xyz="0.0175 -0.001 0.0"/>
      <!-- Inertial Axes -->
      <inertia ixx="8.4234e-07" ixy="0" ixz="0" iyx="0" iyy="8.4234e-07" iyz="0" izx="0" izy="0" izz="9.77448e-07"/>
    </inertial>
  </link>
  <link name="l_knee_servo">
    <visual>
      <origin rpy="0 0 3.14159265359" xyz="0 0 0"/>
      <geometry>
        <mesh filename="package://plen_ros/meshes_bin/servo.stl" scale="0.001 0.001 0.001"/>
      </geometry>
      <material name="blue_mat">
        <color rgba="0 0 1 1"/>
      </material>
    </visual>
    <collision>
      <origin rpy="0 0 3.14159265359" xyz="0 0.00625 0.0"/>
      <geometry>
        <box size="0.012 0.025 0.025"/>
      </geometry>
    </collision>
    <inertial>
      <mass value="0.012"/>
      <origin rpy="0 0 0" xyz="0 0.00625 0.0"/>
      <!-- Inertial Axes -->
      <inertia ixx="7.69e-07" ixy="0" ixz="0" iyx="0" iyy="7.69e-07" iyz="0" izx="0" izy="0" izz="7.69e-07"/>
    </inertial>
  </link>
  <link name="l_shin">
    <visual>
      <origin rpy="0 0 0" xyz="-0.0169 0 -0.0091"/>
      <geometry>
        <mesh filename="package://plen_ros/meshes_bin/rshin.stl" scale="0.001 0.001 0.001"/>
      </geometry>
      <material name="blue_mat">
        <color rgba="0 0 1 1"/>
      </material>
    </visual>
    <collision>
      <origin rpy="0 0 0" xyz="-0.018 0 0.004"/>
      <geometry>
        <box size="0.045 0.04 0.023"/>
      </geometry>
    </collision>
    <inertial>
      <mass value="0.006965"/>
      <origin rpy="0 0 0" xyz="-0.018 0 0.004"/>
      <!-- Inertial Axes -->
      <inertia ixx="1.48238416667e-06" ixy="0" ixz="0" iyx="0" iyy="1.48238416667e-06" iyz="0" izx="0" izy="0" izz="2.10401041667e-06"/>
    </inertial>
  </link>
  <link name="l_ankle">
    <visual>
      <origin rpy="0 0 0" xyz="-0.0075 0.0 -0.0075"/>
      <geometry>
        <mesh filename="package://plen_ros/meshes_bin/rthigh.stl" scale="0.001 0.001 0.001"/>
      </geometry>
      <material name="green_mat">
        <color rgba="0 1 0 1"/>
      </material>
    </visual>
    <collision>
      <origin rpy="0 0 0" xyz="-0.007 0.0 0.007"/>
      <geometry>
        <box size="0.028 0.028 0.028"/>
      </geometry>
    </collision>
    <inertial>
      <mass value="0.04"/>
      <origin rpy="0 0 0" xyz="-0.007 0.0 0.007"/>
      <!-- Inertial Axes -->
      <inertia ixx="5.22666666667e-06" ixy="0" ixz="0" iyx="0" iyy="5.22666666667e-06" iyz="0" izx="0" izy="0" izz="5.22666666667e-06"/>
    </inertial>
  </link>
  <link name="l_foot">
    <visual>
      <origin rpy="0 0 0" xyz="0.00885 0 -0.0142"/>
      <geometry>
        <mesh filename="package://plen_ros/meshes_bin/lfoot.stl" scale="0.001 0.001 0.001"/>
      </geometry>
      <material name="red_mat">
        <color rgba="1 0 0 1"/>
      </material>
    </visual>
    <collision>
      <origin rpy="0 0 0" xyz="0.00925 0 -0.017"/>
      <geometry>
        <box size="0.041 0.062867 0.004"/>
      </geometry>
    </collision>
    <inertial>
      <mass value="0.015"/>
      <origin rpy="0 0 0" xyz="0.00925 0 -0.009"/>
      <!-- Inertial Axes -->
      <inertia ixx="2.12125e-06" ixy="0" ixz="0" iyx="0" iyy="2.12125e-06" iyz="0" izx="0" izy="0" izz="7.04157461125e-06"/>
    </inertial>
  </link>
  <joint name="torso_batter" type="fixed">
    <origin rpy="0 0 0" xyz="-0.036 0 -0.012"/>
    <parent link="torso"/>
    <child link="battery"/>
  </joint>
  <joint name="torso_head" type="fixed">
    <origin rpy="0 0 0" xyz="-0.0065 0 0.056"/>
    <parent link="torso"/>
    <child link="head"/>
  </joint>
  <joint name="torso_rt_servo" type="fixed">
    <origin rpy="-1.57079632679 0 3.14159265359" xyz="-0.0066 -0.022 0.0308"/>
    <parent link="torso"/>
    <child link="rt_servo"/>
  </joint>
  <joint name="torso_lt_servo" type="fixed">
    <origin rpy="-1.57079632679 0 0" xyz="-0.0066 0.022 0.0308"/>
    <parent link="torso"/>
    <child link="lt_servo"/>
  </joint>
  <joint name="torso_rb_servo" type="fixed">
    <origin rpy="3.14159265359 0 3.14159265359" xyz="-0.0066 -0.0228 -0.02475"/>
    <parent link="torso"/>
    <child link="rb_servo"/>
  </joint>
  <joint name="torso_lb_servo" type="fixed">
    <origin rpy="3.14159265359 0 0" xyz="-0.0066 0.0228 -0.02475"/>
    <parent link="torso"/>
    <child link="lb_servo"/>
  </joint>
  <joint name="torso_r_shoulder" type="revolute">
    <axis xyz="0 0 1"/>
    <origin rpy="1.57079632679 -1.57079632679 0" xyz="-0.0066 -0.038 0.0308"/>
    <parent link="torso"/>
    <child link="r_shoulder"/>
    <limit effort="100" lower="-1" upper="1" velocity="100"/>
    <joint_properties damping="1" friction="1"/>
  </joint>
  <transmission name="tran13">
    <type>transmission_interface/SimpleTransmission</type>
    <joint name="torso_r_shoulder">
      <hardwareInterface>hardware_interface/EffortJointInterface</hardwareInterface>
    </joint>
    <actuator name="motor13">
      <hardwareInterface>hardware_interface/EffortJointInterface</hardwareInterface>
      <mechanicalReduction>1</mechanicalReduction>
    </actuator>
  </transmission>
  <joint name="r_shoulder_rs_servo" type="revolute">
    <axis xyz="0 0 1"/>
    <origin rpy="-1.57079632679 1.57079632679 0" xyz="-0.00535 0.0006 0.01265"/>
    <parent link="r_shoulder"/>
    <child link="rs_servo"/>
    <limit effort="100" lower="-1" upper="1" velocity="100"/>
    <joint_properties damping="1" friction="1"/>
  </joint>
  <transmission name="tran14">
    <type>transmission_interface/SimpleTransmission</type>
    <joint name="r_shoulder_rs_servo">
      <hardwareInterface>hardware_interface/EffortJointInterface</hardwareInterface>
    </joint>
    <actuator name="motor14">
      <hardwareInterface>hardware_interface/EffortJointInterface</hardwareInterface>
      <mechanicalReduction>1</mechanicalReduction>
    </actuator>
  </transmission>
  <joint name="rs_servo_r_arm" type="fixed">
    <origin rpy="-1.57079632679 0 0" xyz="0.0 0.0195 -0.002"/>
    <parent link="rs_servo"/>
    <child link="r_arm"/>
  </joint>
  <joint name="r_arm_re_servo" type="fixed">
    <origin rpy="-1.57079632679 0 0" xyz="0.0 0.002 0.0195"/>
    <parent link="r_arm"/>
    <child link="re_servo"/>
  </joint>
  <joint name="re_servo_r_elbow" type="revolute">
    <axis xyz="0 1 0"/>
    <origin rpy="-1.57079632679 0 1.57079632679" xyz="0.0 0.0 -0.0015"/>
    <parent link="re_servo"/>
    <child link="r_elbow"/>
    <limit effort="100" lower="-1" upper="1" velocity="100"/>
    <joint_properties damping="1" friction="1"/>
  </joint>
  <transmission name="tran15">
    <type>transmission_interface/SimpleTransmission</type>
    <joint name="re_servo_r_elbow">
      <hardwareInterface>hardware_interface/EffortJointInterface</hardwareInterface>
    </joint>
    <actuator name="motor15">
      <hardwareInterface>hardware_interface/EffortJointInterface</hardwareInterface>
      <mechanicalReduction>1</mechanicalReduction>
    </actuator>
  </transmission>
  <joint name="r_elbow_r_hand" type="fixed">
    <origin rpy="3.14159265359 1.57079632679 0" xyz="-0.03 0.0 0.0"/>
    <parent link="r_elbow"/>
    <child link="r_hand"/>
  </joint>
  <joint name="torso_l_shoulder" type="revolute">
    <axis xyz="0 0 1"/>
    <origin rpy="-1.57079632679 -1.57079632679 0" xyz="-0.0066 0.038 0.0308"/>
    <parent link="torso"/>
    <child link="l_shoulder"/>
    <limit effort="100" lower="-1" upper="1" velocity="100"/>
    <joint_properties damping="1" friction="1"/>
  </joint>
  <transmission name="tran16">
    <type>transmission_interface/SimpleTransmission</type>
    <joint name="torso_l_shoulder">
      <hardwareInterface>hardware_interface/EffortJointInterface</hardwareInterface>
    </joint>
    <actuator name="motor16">
      <hardwareInterface>hardware_interface/EffortJointInterface</hardwareInterface>
      <mechanicalReduction>1</mechanicalReduction>
    </actuator>
  </transmission>
  <joint name="l_shoulder_ls_servo" type="revolute">
    <axis xyz="0 0 1"/>
    <origin rpy="-1.57079632679 1.57079632679 0" xyz="-0.00535 0.0006 0.01265"/>
    <parent link="l_shoulder"/>
    <child link="ls_servo"/>
    <limit effort="100" lower="-1" upper="1" velocity="100"/>
    <joint_properties damping="1" friction="1"/>
  </joint>
  <transmission name="tran17">
    <type>transmission_interface/SimpleTransmission</type>
    <joint name="l_shoulder_ls_servo">
      <hardwareInterface>hardware_interface/EffortJointInterface</hardwareInterface>
    </joint>
    <actuator name="motor17">
      <hardwareInterface>hardware_interface/EffortJointInterface</hardwareInterface>
      <mechanicalReduction>1</mechanicalReduction>
    </actuator>
  </transmission>
  <joint name="ls_servo_l_arm" type="fixed">
    <origin rpy="-1.57079632679 0 0" xyz="0.0 0.0195 -0.002"/>
    <parent link="ls_servo"/>
    <child link="l_arm"/>
  </joint>
  <joint name="l_arm_le_servo" type="fixed">
    <origin rpy="-1.57079632679 0 0" xyz="0.0 0.002 0.0195"/>
    <parent link="l_arm"/>
    <child link="le_servo"/>
  </joint>
  <joint name="le_servo_l_elbow" type="revolute">
    <axis xyz="0 1 0"/>
    <origin rpy="-1.57079632679 0 1.57079632679" xyz="0.0 0.0 -0.0015"/>
    <parent link="le_servo"/>
    <child link="l_elbow"/>
    <limit effort="100" lower="-1" upper="1" velocity="100"/>
    <joint_properties damping="1" friction="1"/>
  </joint>
  <transmission name="tran18">
    <type>transmission_interface/SimpleTransmission</type>
    <joint name="le_servo_l_elbow">
      <hardwareInterface>hardware_interface/EffortJointInterface</hardwareInterface>
    </joint>
    <actuator name="motor18">
      <hardwareInterface>hardware_interface/EffortJointInterface</hardwareInterface>
      <mechanicalReduction>1</mechanicalReduction>
    </actuator>
  </transmission>
  <joint name="l_elbow_l_hand" type="fixed">
    <origin rpy="3.14159265359 1.57079632679 0" xyz="-0.03 0.0 0.0"/>
    <parent link="l_elbow"/>
    <child link="l_hand"/>
  </joint>
  <joint name="rb_servo_r_hip" type="revolute">
    <axis xyz="0 0 1"/>
    <origin rpy="3.14159265359 0 1.57079632679" xyz="0.0 0.0 0.0142"/>
    <parent link="rb_servo"/>
    <child link="r_hip"/>
    <limit effort="100" lower="-1" upper="1" velocity="100"/>
    <joint_properties damping="1" friction="1"/>
  </joint>
  <transmission name="tran1">
    <type>transmission_interface/SimpleTransmission</type>
    <joint name="rb_servo_r_hip">
      <hardwareInterface>hardware_interface/EffortJointInterface</hardwareInterface>
    </joint>
    <actuator name="motor1">
      <hardwareInterface>hardware_interface/EffortJointInterface</hardwareInterface>
      <mechanicalReduction>1</mechanicalReduction>
    </actuator>
  </transmission>
  <joint name="r_hip_r_thigh" type="revolute">
    <axis xyz="0 1 0"/>
    <origin rpy="3.14159265359 0 0" xyz="0.00545 -0.002 -0.01281"/>
    <parent link="r_hip"/>
    <child link="r_thigh"/>
    <limit effort="100" lower="-1" upper="1" velocity="100"/>
    <joint_properties damping="1" friction="1"/>
  </joint>
  <transmission name="tran2">
    <type>transmission_interface/SimpleTransmission</type>
    <joint name="r_hip_r_thigh">
      <hardwareInterface>hardware_interface/EffortJointInterface</hardwareInterface>
    </joint>
    <actuator name="motor2">
      <hardwareInterface>hardware_interface/EffortJointInterface</hardwareInterface>
      <mechanicalReduction>1</mechanicalReduction>
    </actuator>
  </transmission>
  <joint name="r_thigh_r_knee" type="revolute">
    <axis xyz="0 1 0"/>
    <origin rpy="1.57079632679 -1.57079632679 0" xyz="-0.023 0.0075 0.01275"/>
    <parent link="r_thigh"/>
    <child link="r_knee"/>
    <limit effort="100" lower="-1" upper="1" velocity="100"/>
    <joint_properties damping="1" friction="1"/>
  </joint>
  <transmission name="tran3">
    <type>transmission_interface/SimpleTransmission</type>
    <joint name="r_thigh_r_knee">
      <hardwareInterface>hardware_interface/EffortJointInterface</hardwareInterface>
    </joint>
    <actuator name="motor3">
      <hardwareInterface>hardware_interface/EffortJointInterface</hardwareInterface>
      <mechanicalReduction>1</mechanicalReduction>
    </actuator>
  </transmission>
  <joint name="r_knee_knee_servo" type="fixed">
    <origin rpy="-1.57079632679 0 0" xyz="0.028 -0.0128 0.0005"/>
    <parent link="r_knee"/>
    <child link="r_knee_servo"/>
  </joint>
  <joint name="r_knee_r_shin" type="revolute">
    <axis xyz="0 1 0"/>
    <origin rpy="0 0 0" xyz="0.0281 -0.0146 0.00045"/>
    <parent link="r_knee"/>
    <child link="r_shin"/>
    <limit effort="100" lower="-1" upper="1" velocity="100"/>
    <joint_properties damping="1" friction="1"/>
  </joint>
  <transmission name="tran4">
    <type>transmission_interface/SimpleTransmission</type>
    <joint name="r_knee_r_shin">
      <hardwareInterface>hardware_interface/EffortJointInterface</hardwareInterface>
    </joint>
    <actuator name="motor4">
      <hardwareInterface>hardware_interface/EffortJointInterface</hardwareInterface>
      <mechanicalReduction>1</mechanicalReduction>
    </actuator>
  </transmission>
  <joint name="r_shin_r_ankle" type="revolute">
    <axis xyz="0 0 1"/>
    <origin rpy="-1.57079632679 -1.57079632679 3.14159265359" xyz="0.03375 -0.017 0.0"/>
    <parent link="r_shin"/>
    <child link="r_ankle"/>
    <limit effort="100" lower="-1" upper="1" velocity="100"/>
    <joint_properties damping="1" friction="1"/>
  </joint>
  <transmission name="tran5">
    <type>transmission_interface/SimpleTransmission</type>
    <joint name="r_shin_r_ankle">
      <hardwareInterface>hardware_interface/EffortJointInterface</hardwareInterface>
    </joint>
    <actuator name="motor5">
      <hardwareInterface>hardware_interface/EffortJointInterface</hardwareInterface>
      <mechanicalReduction>1</mechanicalReduction>
    </actuator>
  </transmission>
  <joint name="r_ankle_r_foot" type="revolute">
    <axis xyz="0 1 0"/>
    <origin rpy="-1.57079632679 -1.57079632679 0" xyz="0.0042 -0.0127 -0.0074"/>
    <parent link="r_ankle"/>
    <child link="r_foot"/>
    <limit effort="100" lower="-1" upper="1" velocity="100"/>
    <joint_properties damping="1" friction="1"/>
  </joint>
  <transmission name="tran6">
    <type>transmission_interface/SimpleTransmission</type>
    <joint name="r_ankle_r_foot">
      <hardwareInterface>hardware_interface/EffortJointInterface</hardwareInterface>
    </joint>
    <actuator name="motor6">
      <hardwareInterface>hardware_interface/EffortJointInterface</hardwareInterface>
      <mechanicalReduction>1</mechanicalReduction>
    </actuator>
  </transmission>
  <joint name="lb_servo_l_hip" type="revolute">
    <axis xyz="0 0 1"/>
    <origin rpy="3.14159265359 0 1.57079632679" xyz="0.0 0.0 0.0142"/>
    <parent link="lb_servo"/>
    <child link="l_hip"/>
    <limit effort="100" lower="-1" upper="1" velocity="100"/>
    <joint_properties damping="1" friction="1"/>
  </joint>
  <transmission name="tran7">
    <type>transmission_interface/SimpleTransmission</type>
    <joint name="lb_servo_l_hip">
      <hardwareInterface>hardware_interface/EffortJointInterface</hardwareInterface>
    </joint>
    <actuator name="motor7">
      <hardwareInterface>hardware_interface/EffortJointInterface</hardwareInterface>
      <mechanicalReduction>1</mechanicalReduction>
    </actuator>
  </transmission>
  <joint name="l_hip_l_thigh" type="revolute">
    <axis xyz="1 0 0"/>
    <origin rpy="1.57079632679 0 1.57079632679" xyz="0.0055 0.017 -0.01265"/>
    <parent link="l_hip"/>
    <child link="l_thigh"/>
    <limit effort="100" lower="-1" upper="1" velocity="100"/>
    <joint_properties damping="1" friction="1"/>
  </joint>
  <transmission name="tran8">
    <type>transmission_interface/SimpleTransmission</type>
    <joint name="l_hip_l_thigh">
      <hardwareInterface>hardware_interface/EffortJointInterface</hardwareInterface>
    </joint>
    <actuator name="motor8">
      <hardwareInterface>hardware_interface/EffortJointInterface</hardwareInterface>
      <mechanicalReduction>1</mechanicalReduction>
    </actuator>
  </transmission>
  <joint name="l_thigh_l_knee" type="revolute">
    <axis xyz="0 1 0"/>
    <origin rpy="-1.57079632679 0 -1.57079632679" xyz="-0.0074 -0.0128 -0.0086"/>
    <parent link="l_thigh"/>
    <child link="l_knee"/>
    <limit effort="100" lower="-1" upper="1" velocity="100"/>
    <joint_properties damping="1" friction="1"/>
  </joint>
  <transmission name="tran9">
    <type>transmission_interface/SimpleTransmission</type>
    <joint name="l_thigh_l_knee">
      <hardwareInterface>hardware_interface/EffortJointInterface</hardwareInterface>
    </joint>
    <actuator name="motor9">
      <hardwareInterface>hardware_interface/EffortJointInterface</hardwareInterface>
      <mechanicalReduction>1</mechanicalReduction>
    </actuator>
  </transmission>
  <joint name="l_knee_knee_servo" type="fixed">
    <origin rpy="-1.57079632679 3.14159265359 0" xyz="0.028 0.00145 0.0"/>
    <parent link="l_knee"/>
    <child link="l_knee_servo"/>
  </joint>
  <joint name="l_knee_l_shin" type="revolute">
    <axis xyz="0 1 0"/>
    <origin rpy="0 3.14159265359 0" xyz="0.0281 -0.0002 0.00045"/>
    <parent link="l_knee"/>
    <child link="l_shin"/>
    <limit effort="100" lower="-1" upper="1" velocity="100"/>
    <joint_properties damping="1" friction="1"/>
  </joint>
  <transmission name="tran10">
    <type>transmission_interface/SimpleTransmission</type>
    <joint name="l_knee_l_shin">
      <hardwareInterface>hardware_interface/EffortJointInterface</hardwareInterface>
    </joint>
    <actuator name="motor10">
      <hardwareInterface>hardware_interface/EffortJointInterface</hardwareInterface>
      <mechanicalReduction>1</mechanicalReduction>
    </actuator>
  </transmission>
  <joint name="l_shin_l_ankle" type="revolute">
    <axis xyz="0 1 0"/>
    <origin rpy="3.14159265359 1.57079632679 0" xyz="-0.03375 -0.002 0.0"/>
    <parent link="l_shin"/>
    <child link="l_ankle"/>
    <limit effort="100" lower="-1" upper="1" velocity="100"/>
    <joint_properties damping="1" friction="1"/>
  </joint>
  <transmission name="tran11">
    <type>transmission_interface/SimpleTransmission</type>
    <joint name="l_shin_l_ankle">
      <hardwareInterface>hardware_interface/EffortJointInterface</hardwareInterface>
    </joint>
    <actuator name="motor11">
      <hardwareInterface>hardware_interface/EffortJointInterface</hardwareInterface>
      <mechanicalReduction>1</mechanicalReduction>
    </actuator>
  </transmission>
  <joint name="l_ankle_l_foot" type="revolute">
    <axis xyz="0 1 0"/>
    <origin rpy="3.14159265359 0 -1.57079632679" xyz="-0.0042 0.0075 0.0128"/>
    <parent link="l_ankle"/>
    <child link="l_foot"/>
    <limit effort="100" lower="-1" upper="1" velocity="100"/>
    <joint_properties damping="1" friction="1"/>
  </joint>
  <transmission name="tran12">
    <type>transmission_interface/SimpleTransmission</type>
    <joint name="l_ankle_l_foot">
      <hardwareInterface>hardware_interface/EffortJointInterface</hardwareInterface>
    </joint>
    <actuator name="motor12">
      <hardwareInterface>hardware_interface/EffortJointInterface</hardwareInterface>
      <mechanicalReduction>1</mechanicalReduction>
    </actuator>
  </transmission>
</robot>
